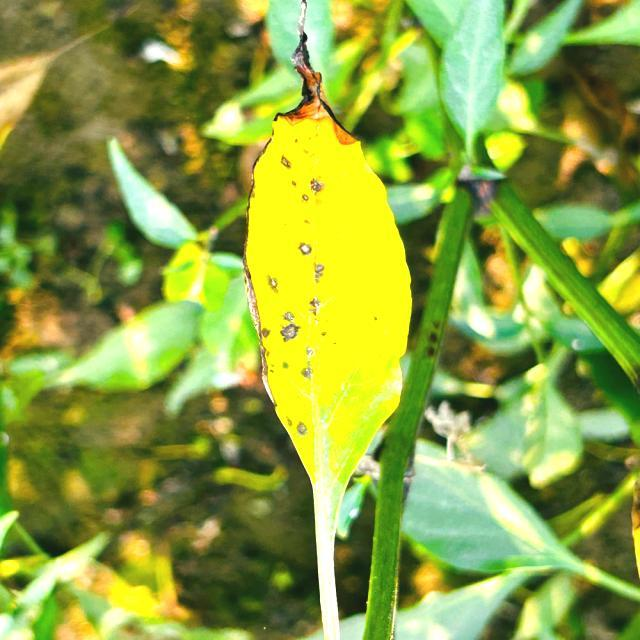Bercak Daun Serkospora: (238, 0, 410, 507)
